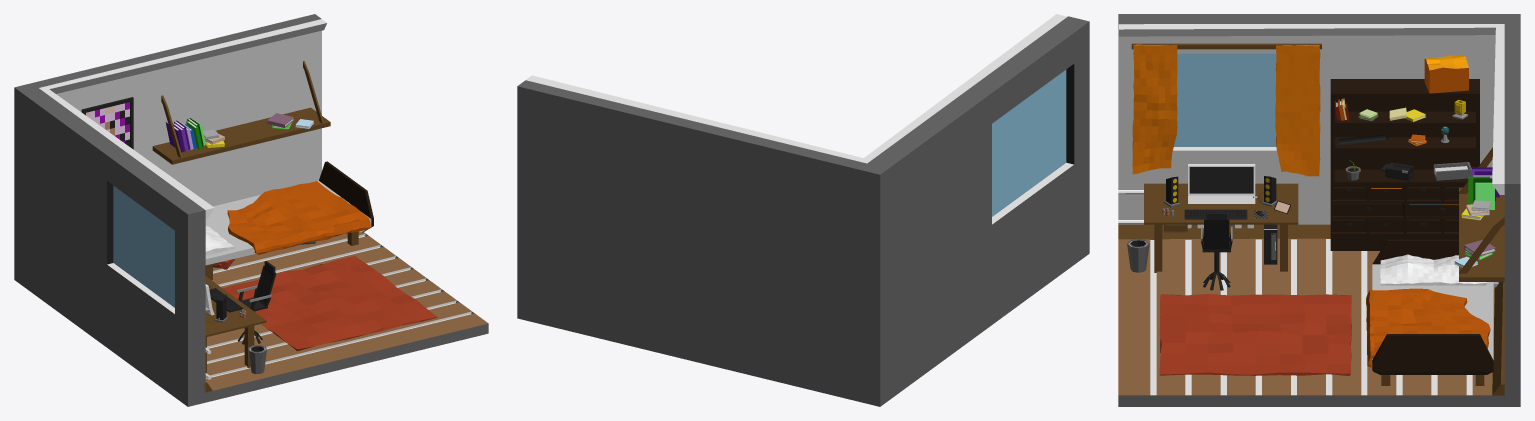
Rendered from low_poly_living_room.obj.
The picture shows the model from 3 angles, left to right: view 1: azimuth 30°, elevation 25°; view 2: azimuth 150°, elevation 25°; view 3: azimuth 270°, elevation 25°; orthographic projection. The views are drawn at different scales.
Parts seen in each view (by area): view 1: Plane_Material_0; view 2: Plane_Material_0; view 3: Plane_Material_0.
Boxes of the visible parts, bbox=[...] form: Plane_Material_0: bbox=[14, 14, 488, 406]; Plane_Material_0: bbox=[517, 14, 1089, 406]; Plane_Material_0: bbox=[1118, 14, 1520, 406].
Bounding box in the file's own units: 400 × 245 × 400.
1 material, 1 textured.
